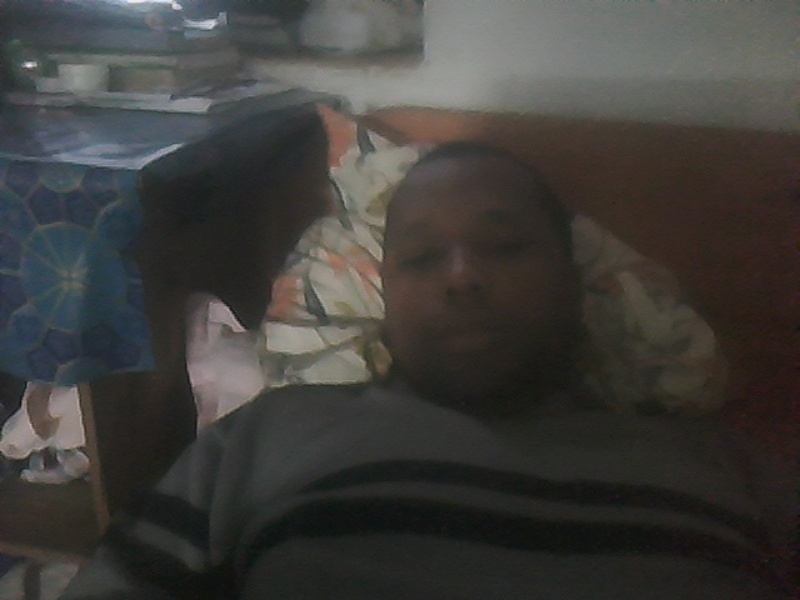TsisyArotava: (377, 133, 579, 432)
